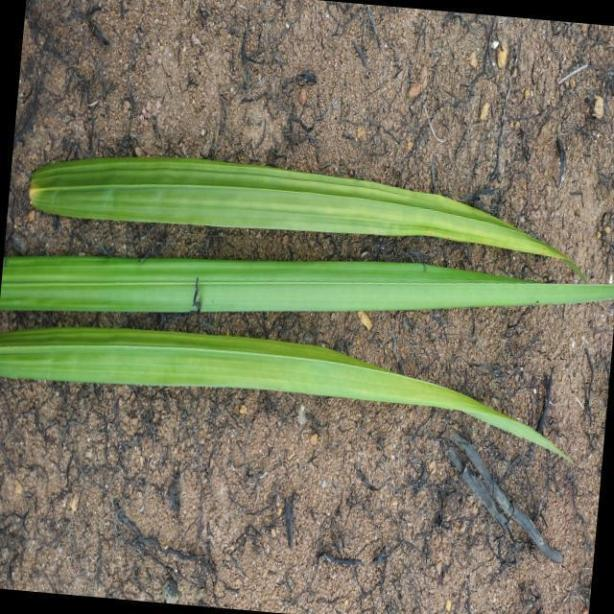nitrogen: (0, 328, 614, 468), (0, 150, 614, 261), (0, 248, 614, 318)
